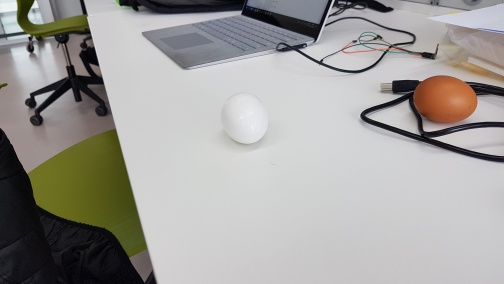egg: (412, 73, 481, 124), (220, 90, 270, 146)
